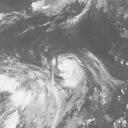cyclone: (50, 50, 91, 97)
